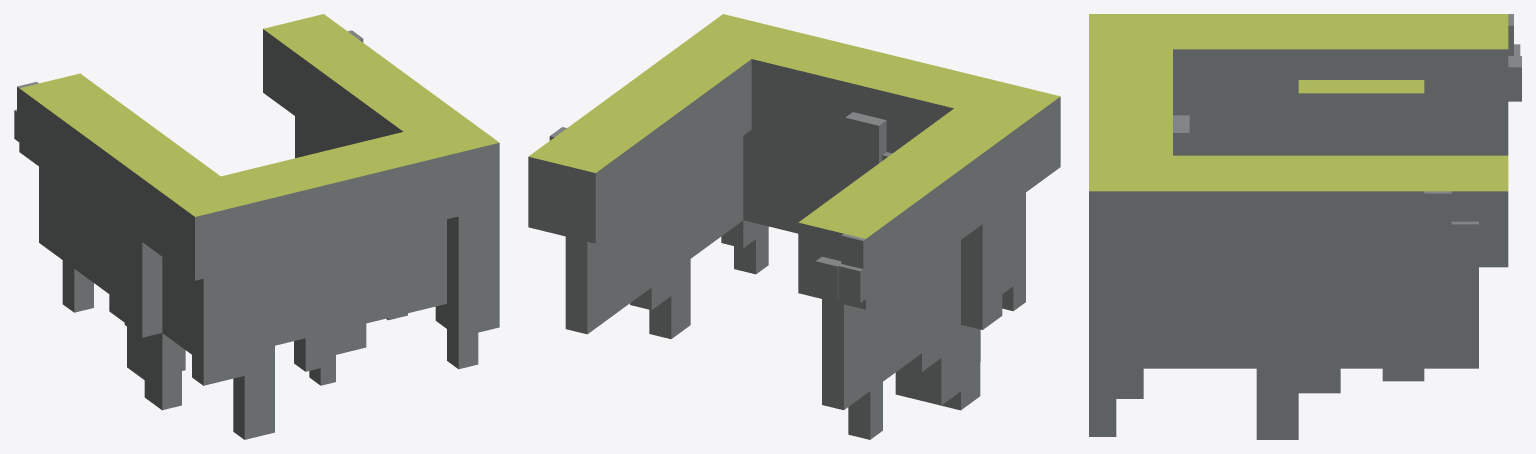
File: LEVEL_0-01.fbx
The picture shows the model from 3 angles, left to right: view 1: azimuth 30°, elevation 25°; view 2: azimuth 150°, elevation 25°; view 3: azimuth 270°, elevation 25°; orthographic projection. The views are drawn at different scales.
Visible parts, largest first — view 1: Level_0_bis; view 2: Level_0_bis; view 3: Level_0_bis.
Boxes of the visible parts, x1=… form: Level_0_bis: x1=14, y1=14, x2=499, y2=439; Level_0_bis: x1=528, y1=14, x2=1060, y2=439; Level_0_bis: x1=1089, y1=14, x2=1521, y2=439.
Size of the model in its own units: 1015 by 772 by 1032.
